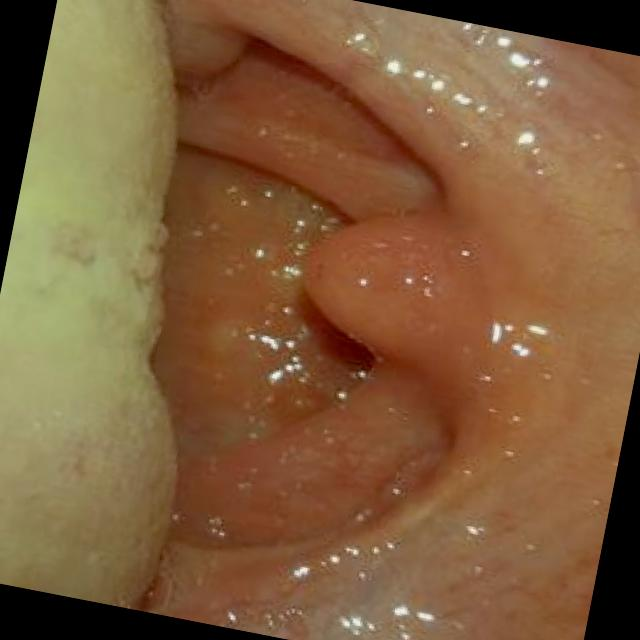Non Pharyngitis: (73, 4, 551, 640)
